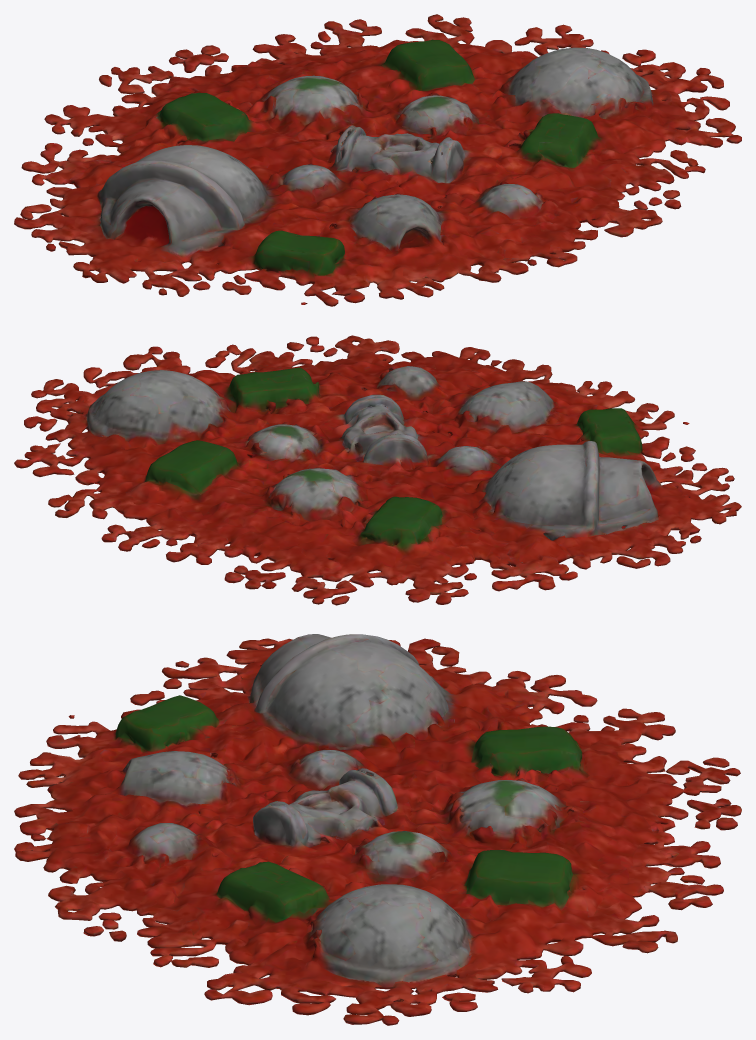
The model's file is PLAYW0_2026-08-22T183411.892.glb.
3 views of the same model, one above another, from view 1: azimuth 30°, elevation 25°; view 2: azimuth 150°, elevation 25°; view 3: azimuth 270°, elevation 25° (orthographic). The views are drawn at different scales.
Visible parts, largest first — view 1: world; view 2: world; view 3: world.
Boxes of the visible parts, x1,y1,x2,y2 form: world: [14, 14, 741, 306]; world: [14, 335, 741, 605]; world: [14, 634, 741, 1025].
Size of the model in its own units: 1 by 0.1253 by 0.8005.
Materials: 1 (1 with a texture image).
